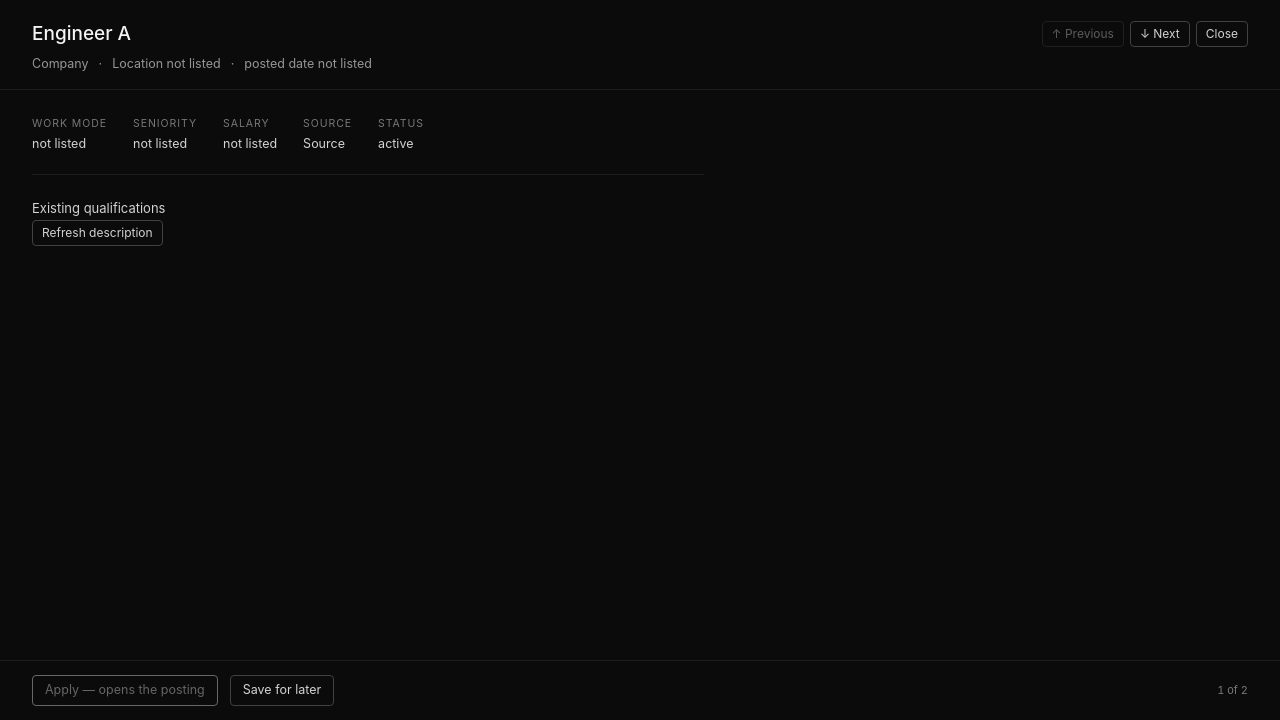
Test: refresh failure keeps cached text readable
Click the button "Refresh description".
click(97, 232)  # box [32,220,163,246]
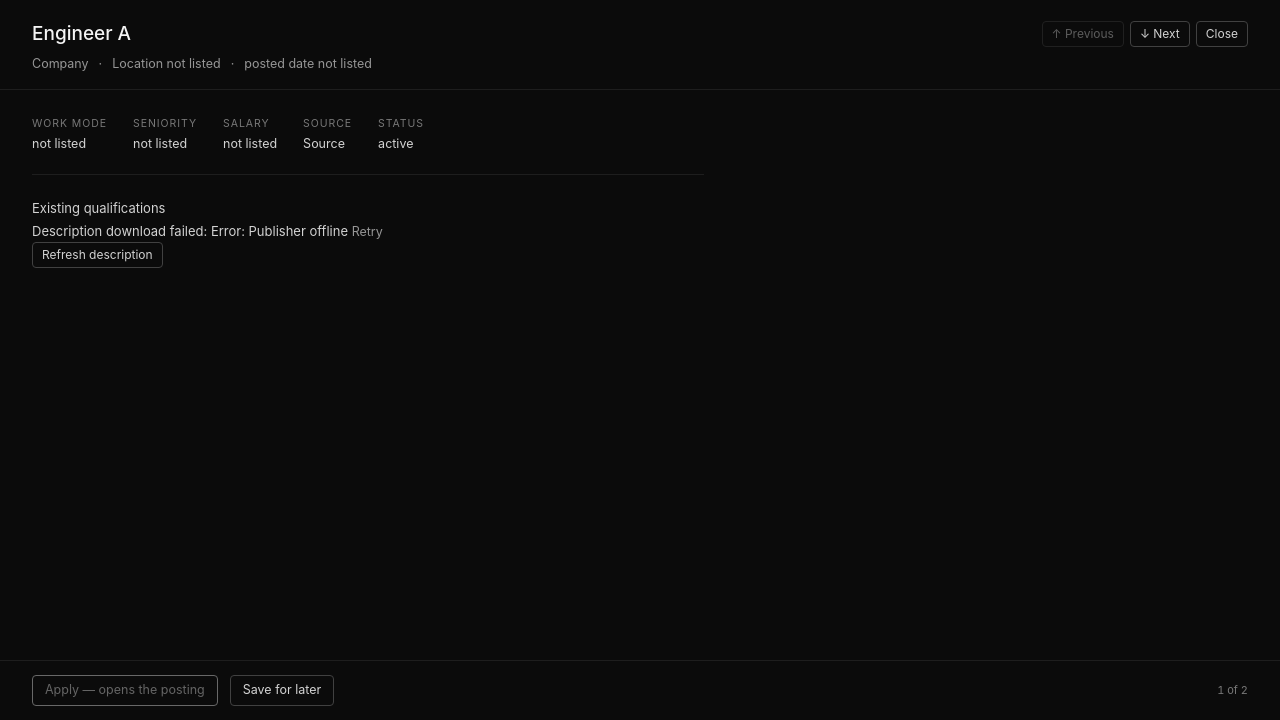
Check: the text "Existing qualifications" is shown, box [32,200,165,216]
Check: the text "Publisher offline" is shown, box [204,222,348,238]
